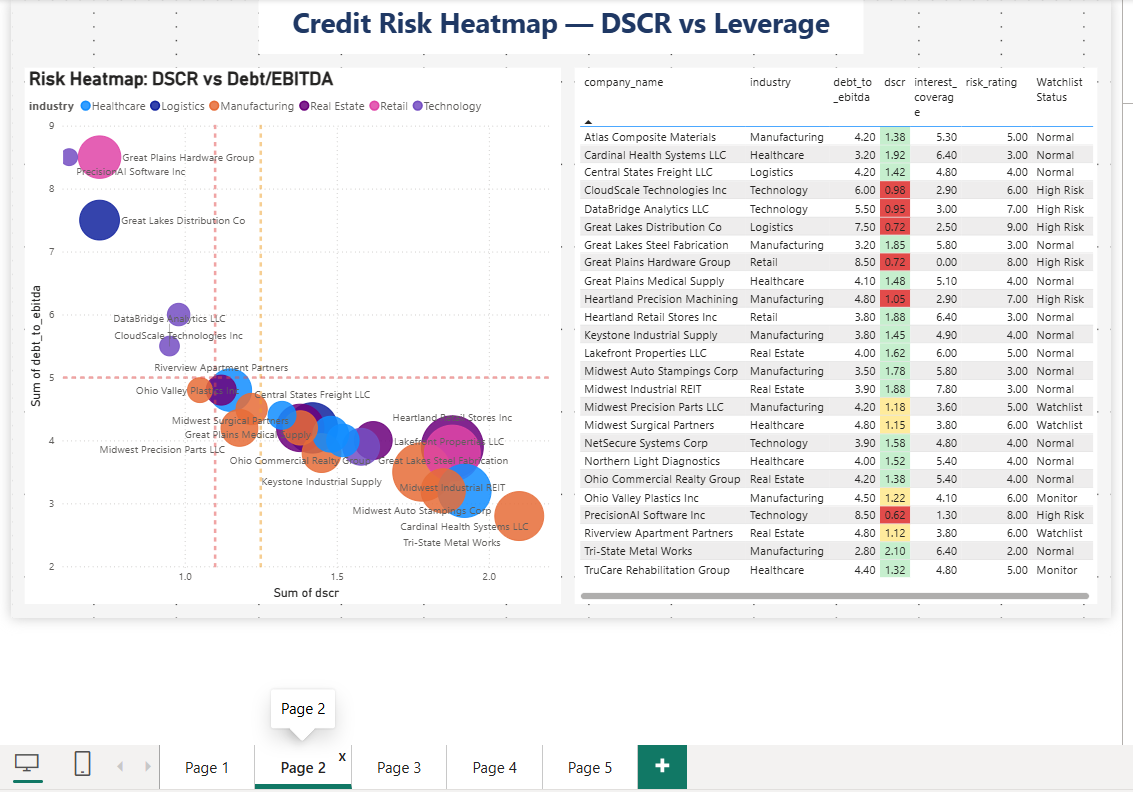

Layout of this report page (visuals, bound fields, positions):
{"tool":"powerbi","page":{"name":"Page 2","canvas":[1280,720],"ordinal":1},"visuals":[{"type":"textbox","box":[288,0,704,64],"z":0},{"type":"scatterChart","title":"Risk Heatmap: DSCR vs Debt/EBITDA","fields":{"X":["Sum(borrowers_data.dscr)"],"Y":["Sum(borrowers_data.debt_to_ebitda)"],"Size":["Sum(borrowers_data.loan_amount)"],"Series":["borrowers_data.industry"],"Category":["borrowers_data.company_name"]},"box":[16,80,624,624],"z":1000},{"type":"tableEx","fields":{"Values":["borrowers_data.company_name","borrowers_data.industry","borrowers_data.debt_to_ebitda","borrowers_data.dscr","borrowers_data.interest_coverage","borrowers_data.risk_rating","borrowers_data.Watchlist Status"]},"box":[656,80,608,624],"z":2000}]}

Visuals, with their boxes on the page's 1280x720 design canvas (x1, y1, x2, y2). These are canvas units, not pixel positions in the 1133x792 screenshot, which may show the page scaled, cropped or inside an application window:
textbox: l=288, t=0, r=992, b=64
"Risk Heatmap: DSCR vs Debt/EBITDA" scatterChart: l=16, t=80, r=640, b=704
tableEx - borrowers_data.company_name x borrowers_data.industry: l=656, t=80, r=1264, b=704
